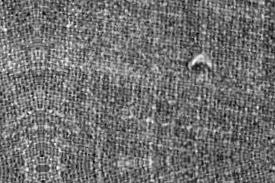snag: (182, 53, 216, 73)
